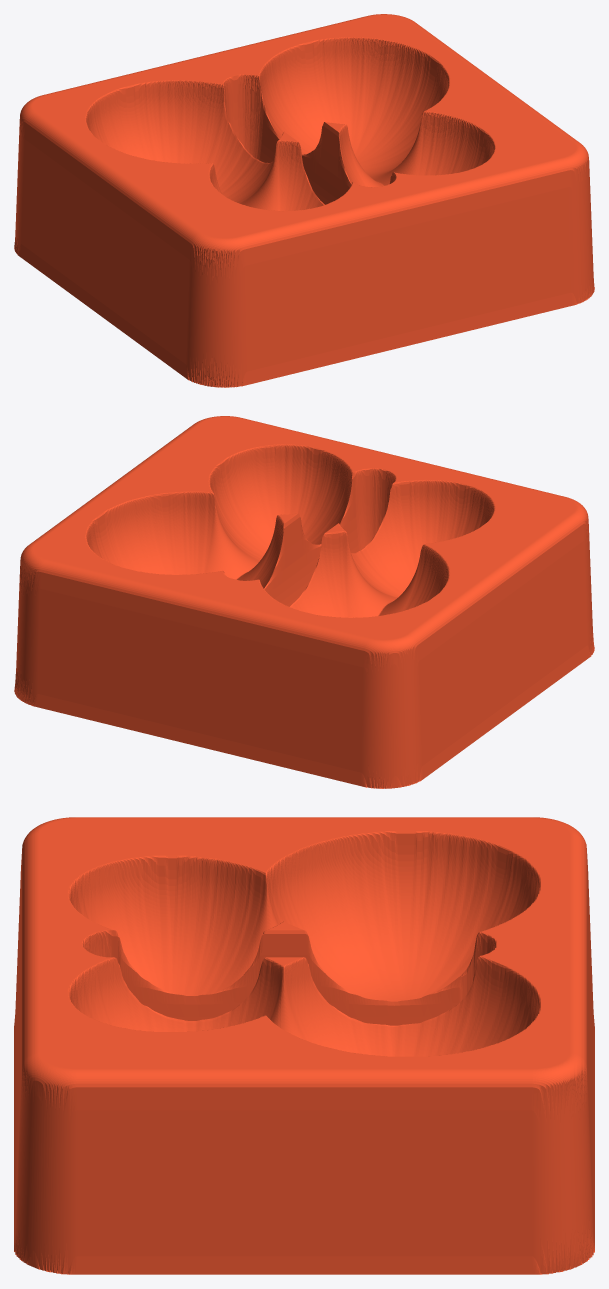
File: mold.glb
3 renders of one model, top to bottom at view 1: azimuth 30°, elevation 25°; view 2: azimuth 150°, elevation 25°; view 3: azimuth 270°, elevation 25°, orthographic. The views are drawn at different scales.
Visible parts, largest first — view 1: geometry_0; view 2: geometry_0; view 3: geometry_0.
Boxes of the visible parts, bbox=[...] form: geometry_0: bbox=[14, 14, 594, 387]; geometry_0: bbox=[14, 416, 594, 788]; geometry_0: bbox=[14, 817, 594, 1274].
Size of the model in its own units: 0.0924 by 0.031 by 0.0836.
